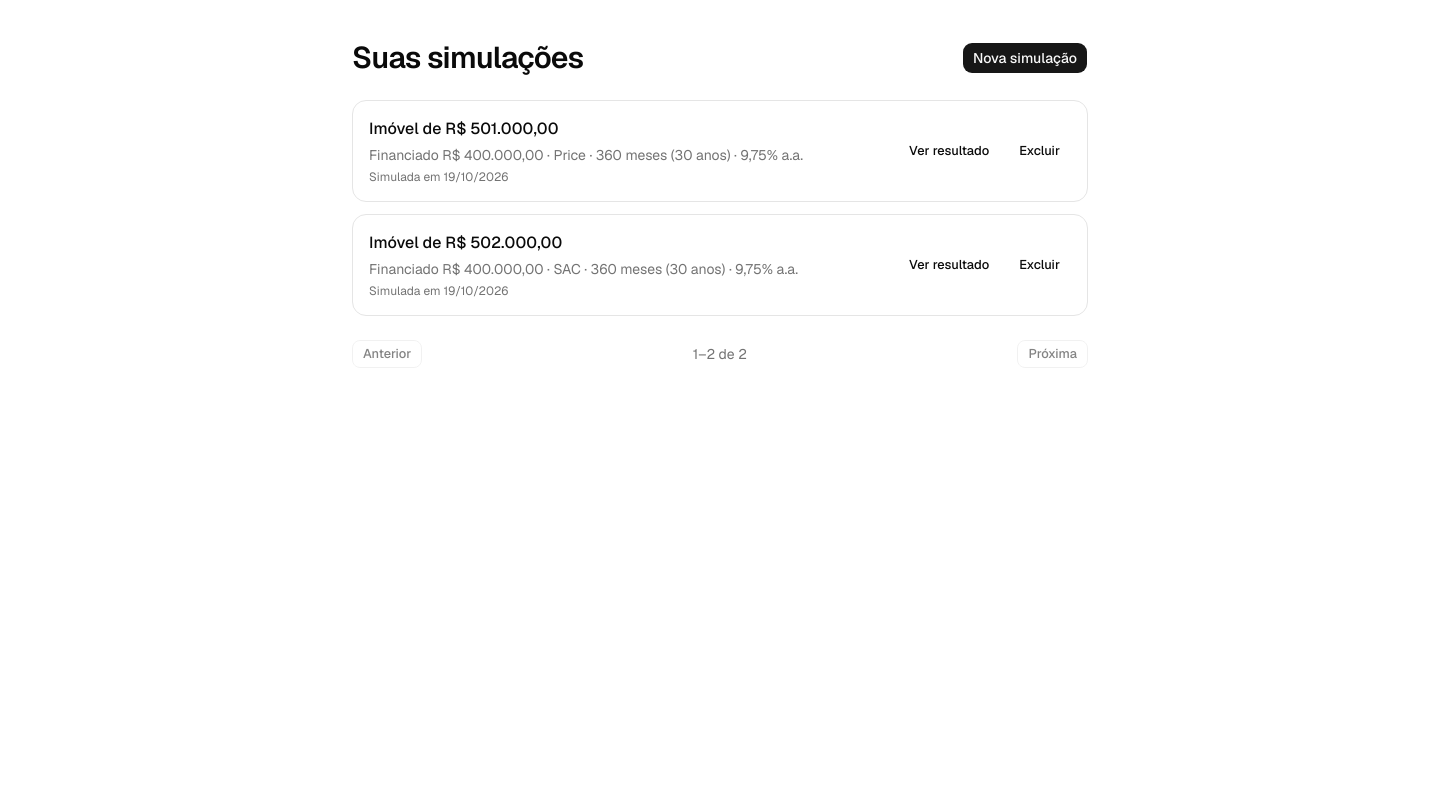
Test case: SimulationHistory › exclui só depois de confirmar, e anuncia o resultado
Click the button "Excluir" in the row of "Price" at (1040, 151), box [1008,137,1071,165]
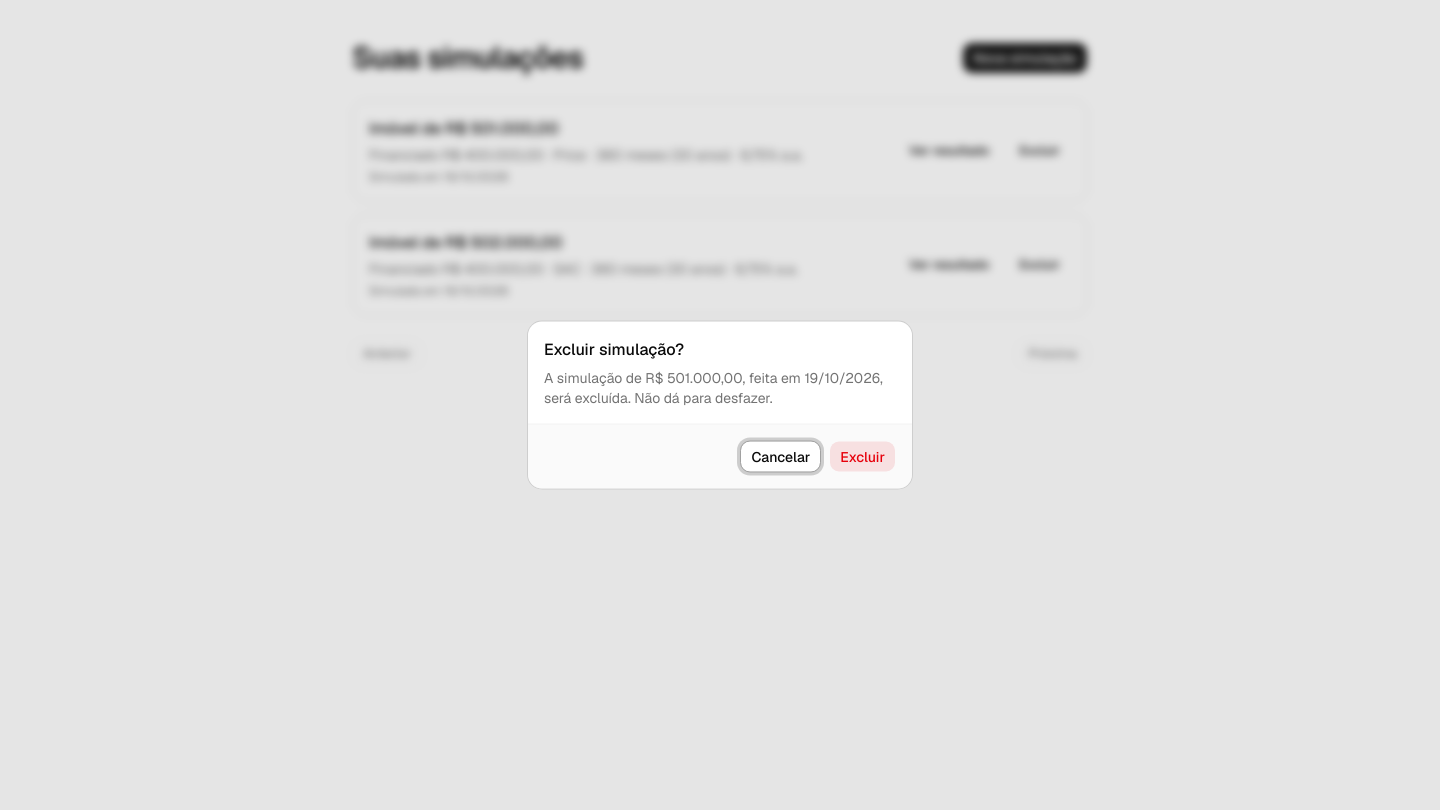
Now the text "Não dá para desfazer" is shown, box [544,368,883,406]
Click the button "Excluir" at (863, 456), box [829,440,896,472]
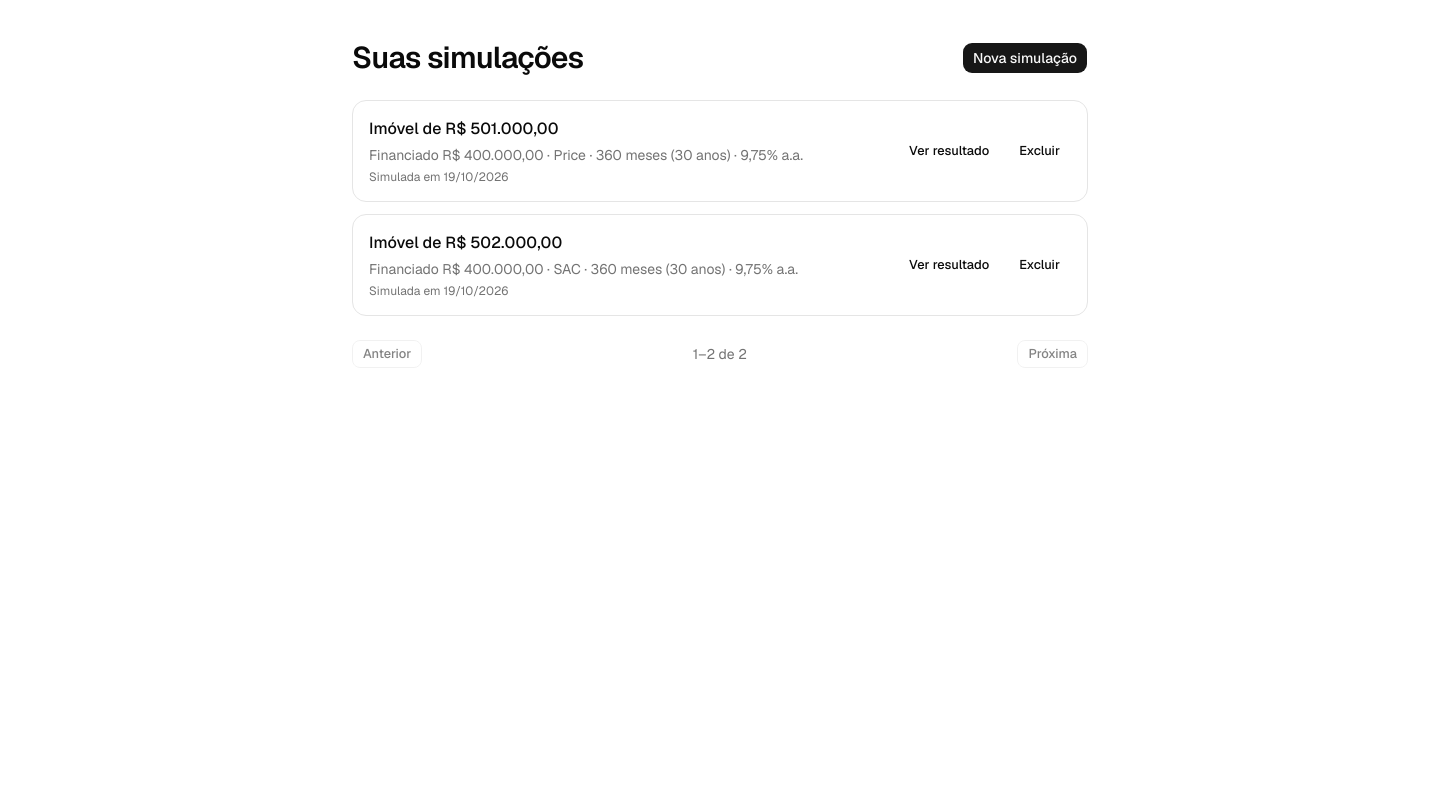
Now the dialog is gone
